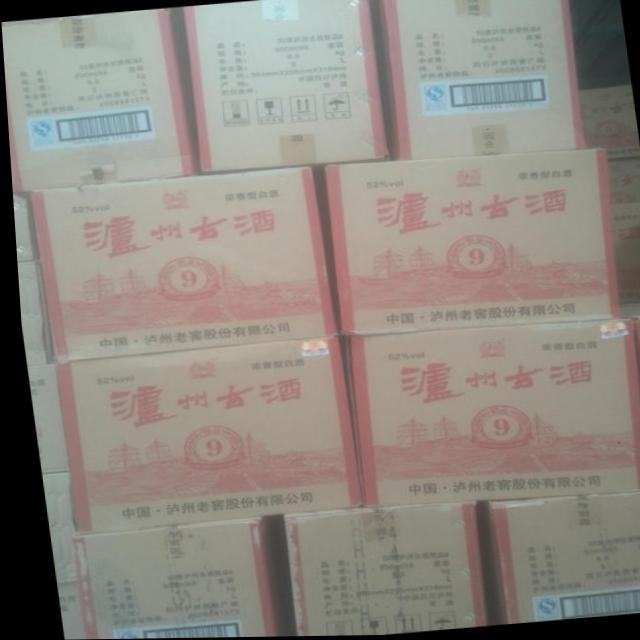box: (26, 165, 332, 362), (53, 335, 354, 535), (346, 319, 640, 508), (321, 149, 616, 336), (183, 0, 388, 173), (1, 8, 189, 192), (383, 0, 585, 162), (275, 503, 480, 637), (64, 518, 267, 640), (483, 491, 640, 624), (22, 363, 64, 473), (579, 86, 637, 161), (35, 472, 67, 583), (607, 203, 640, 305), (14, 260, 44, 365), (604, 160, 640, 205), (50, 584, 77, 640), (10, 193, 32, 260)
